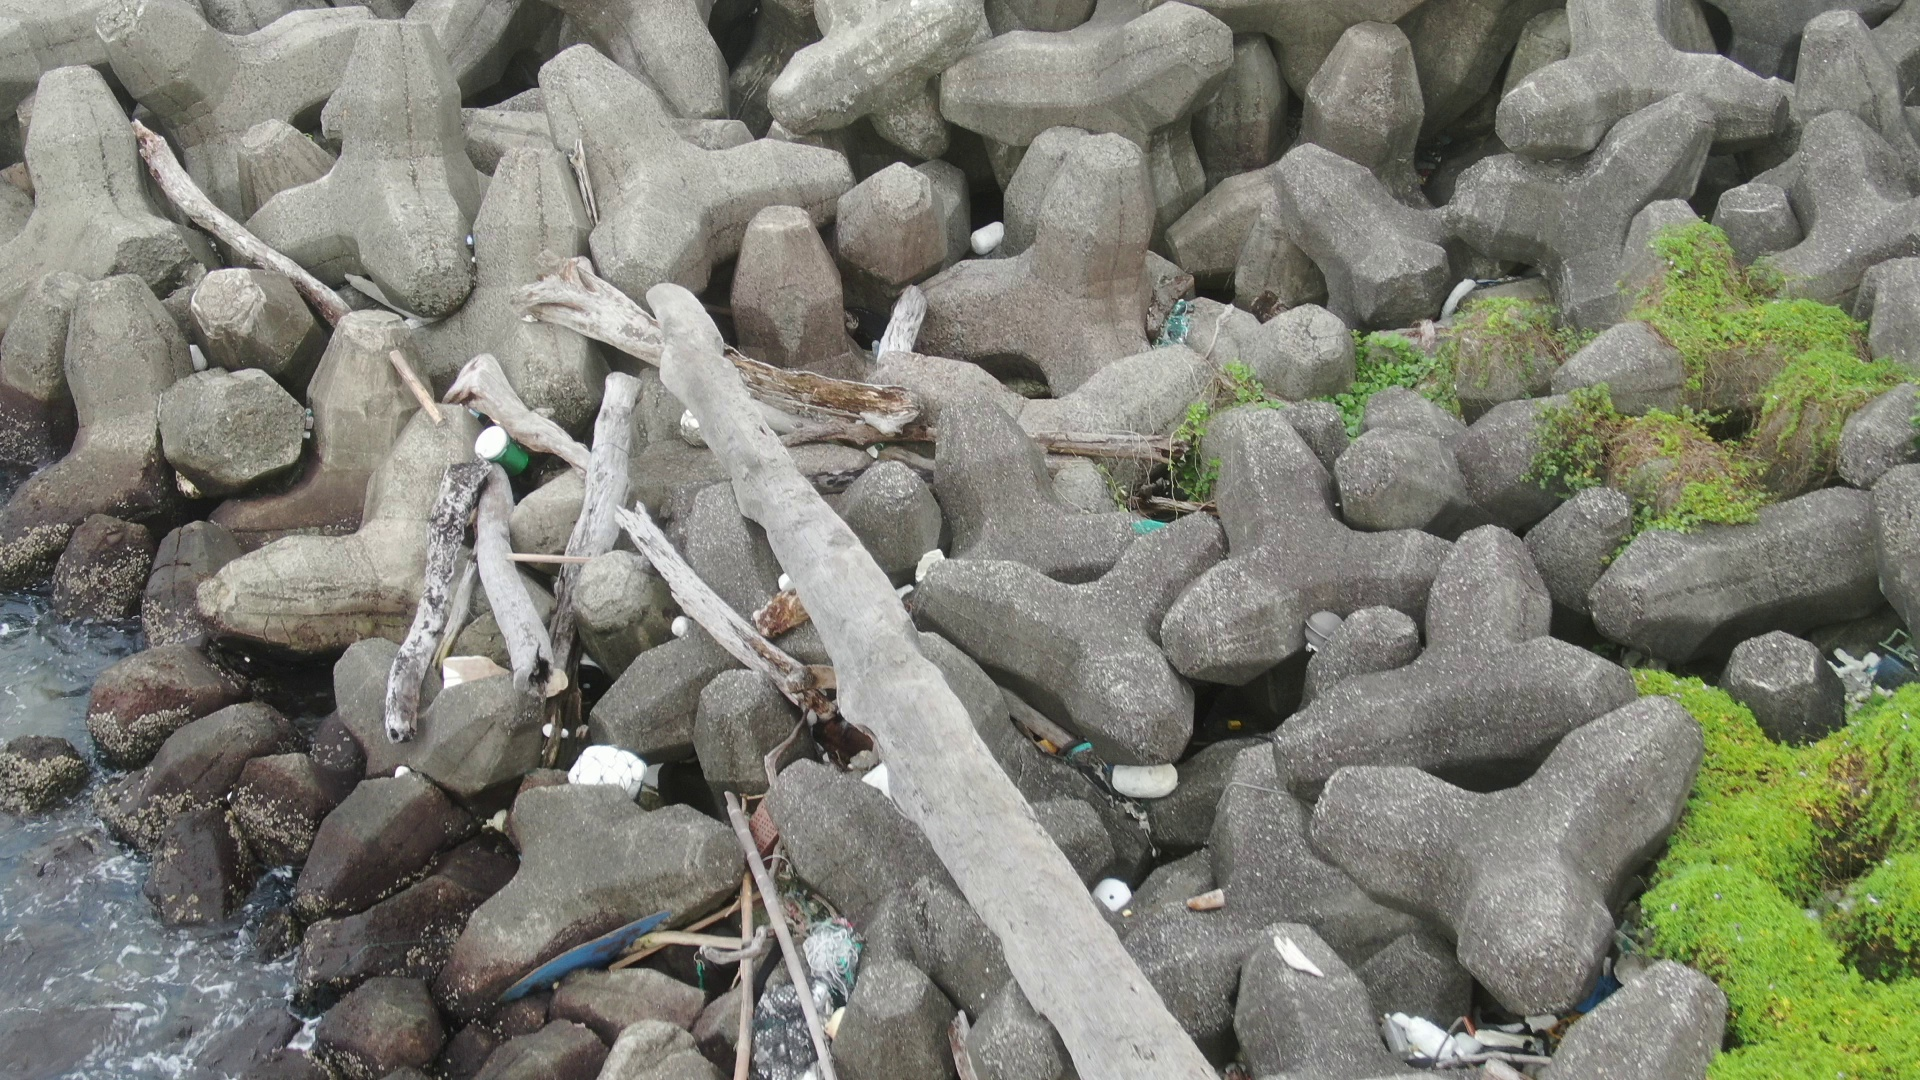garbage: (737, 880, 877, 1080), (500, 905, 695, 1004), (1382, 985, 1564, 1080), (1828, 617, 1920, 702), (570, 731, 651, 796), (468, 419, 539, 481), (1098, 756, 1185, 803), (1294, 608, 1356, 663), (967, 218, 1009, 256)
